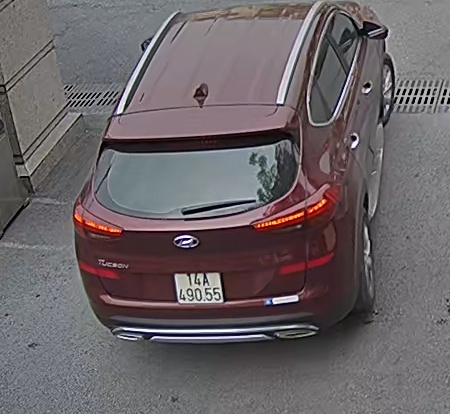vehicle plate: (170, 265, 228, 306)
